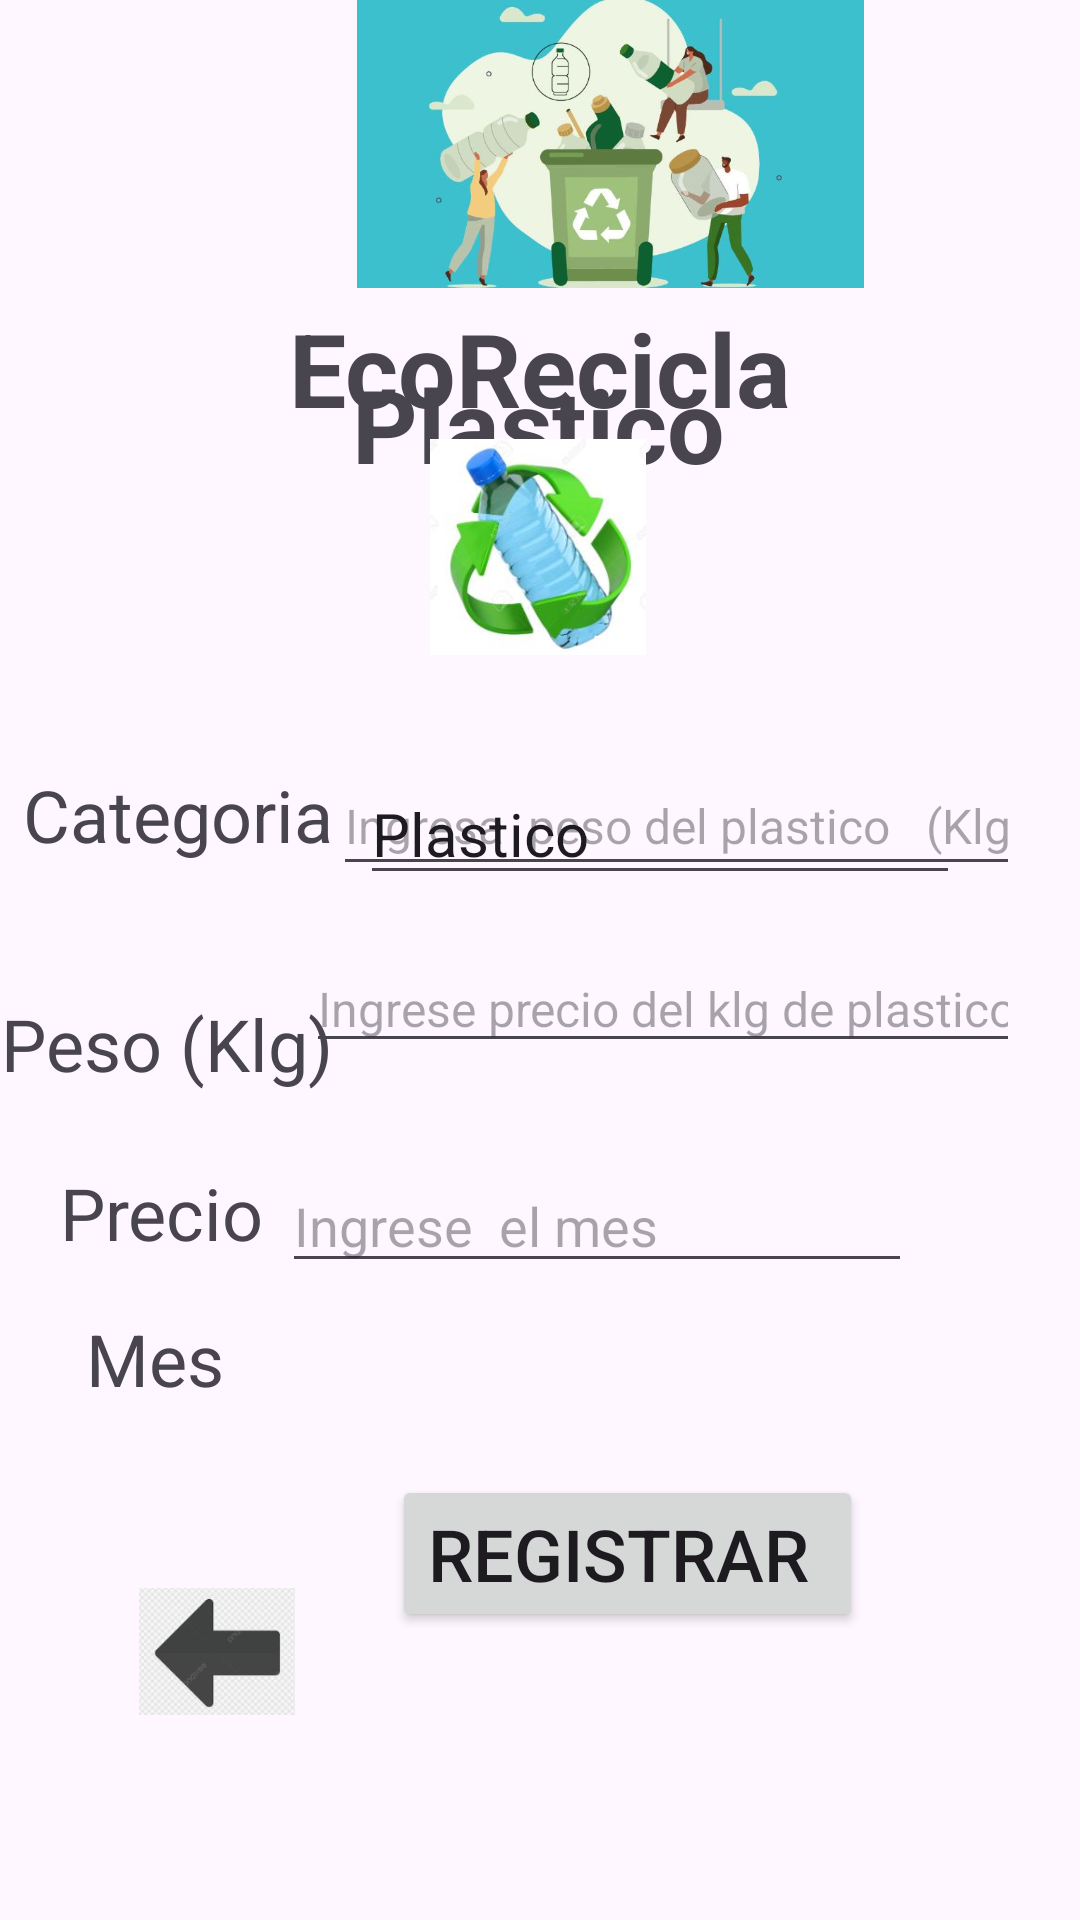

Locate icon controls on the screen. Image size 1080 × 1920, boxes as bbox=[x1, y1, x2, y2].
atras: bbox=[139, 1588, 295, 1715]
